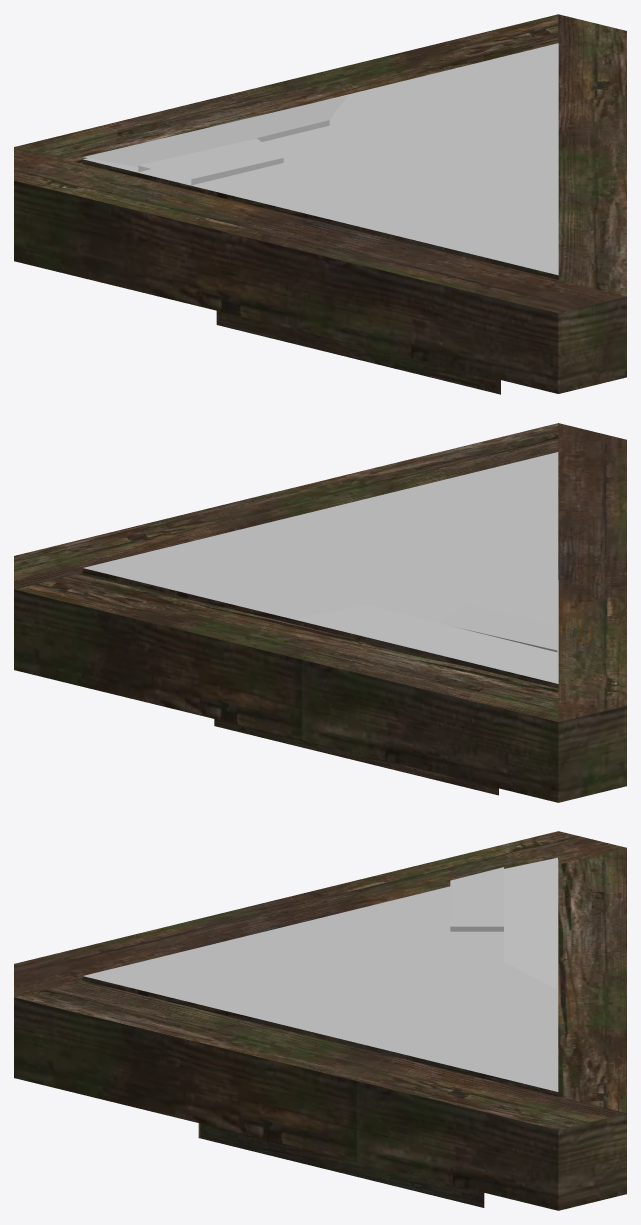
The picture shows the model from 3 angles, top to bottom: view 1: azimuth 30°, elevation 25°; view 2: azimuth 150°, elevation 25°; view 3: azimuth 270°, elevation 25°; orthographic projection.
Parts seen in each view (by area): view 1: SM_BB_T1_Floor_Trangle_Med_LOD0; view 2: SM_BB_T1_Floor_Trangle_Med_LOD0; view 3: SM_BB_T1_Floor_Trangle_Med_LOD0.
Part boxes in pixels (x1=…): SM_BB_T1_Floor_Trangle_Med_LOD0: x1=14, y1=14, x2=626, y2=394; SM_BB_T1_Floor_Trangle_Med_LOD0: x1=14, y1=423, x2=626, y2=802; SM_BB_T1_Floor_Trangle_Med_LOD0: x1=14, y1=831, x2=626, y2=1210.
Bounding box in the file's own units: 1.93 × 0.5085 × 1.67.
